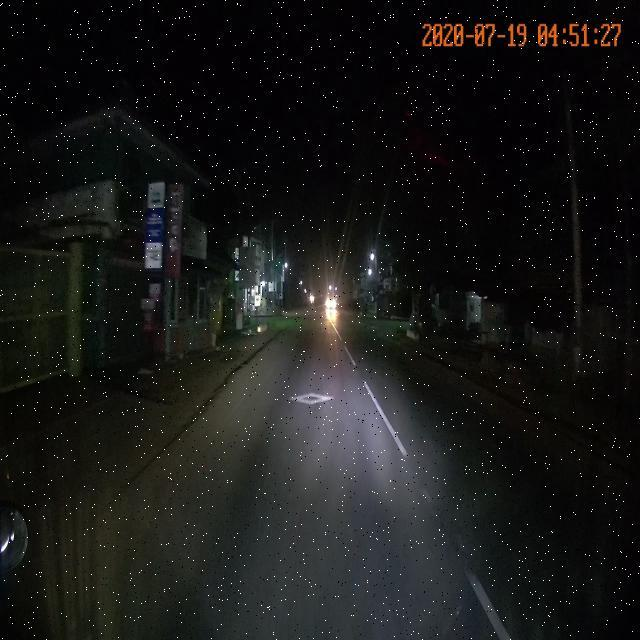diamond: (208, 392, 377, 408)
